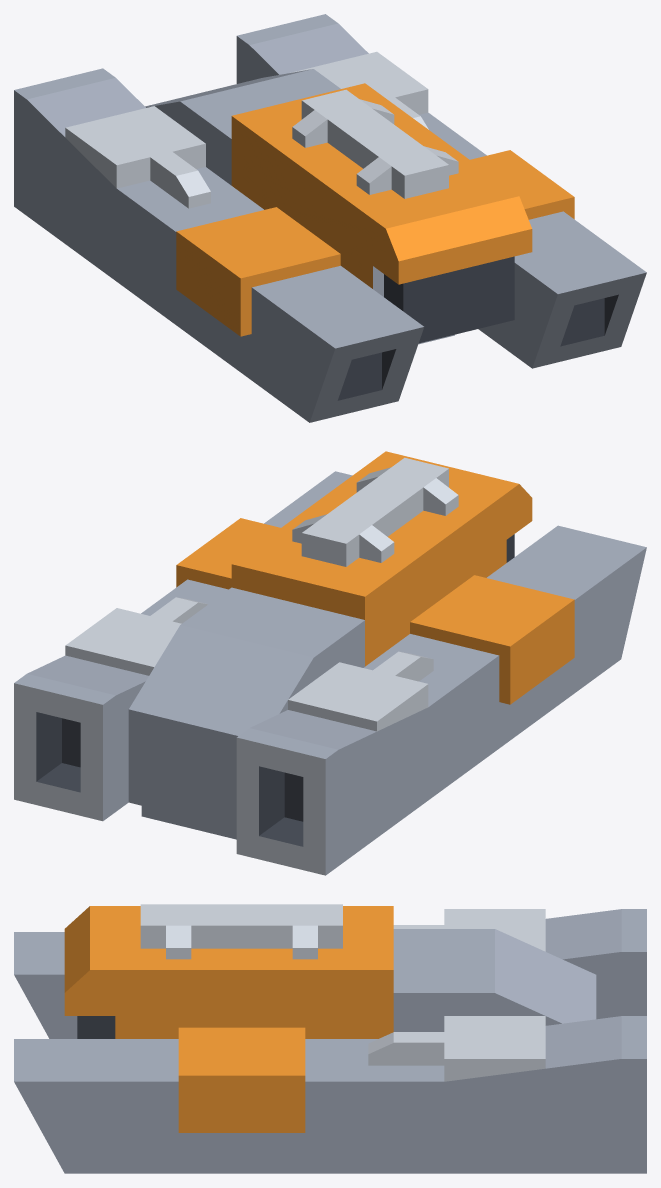
Rendered from craft_cargoB.glb.
3 views of the same model, one above another, from view 1: azimuth 30°, elevation 25°; view 2: azimuth 150°, elevation 25°; view 3: azimuth 270°, elevation 25° (orthographic).
Parts seen in each view (by area): view 1: craft_cargoB; view 2: craft_cargoB; view 3: craft_cargoB.
Boxes of the visible parts, x1,y1,x2,y2 form: craft_cargoB: (14,14,646,422); craft_cargoB: (14,451,646,875); craft_cargoB: (14,904,646,1173).
Bounding box in the file's own units: 1.5 × 0.9 × 2.5.
